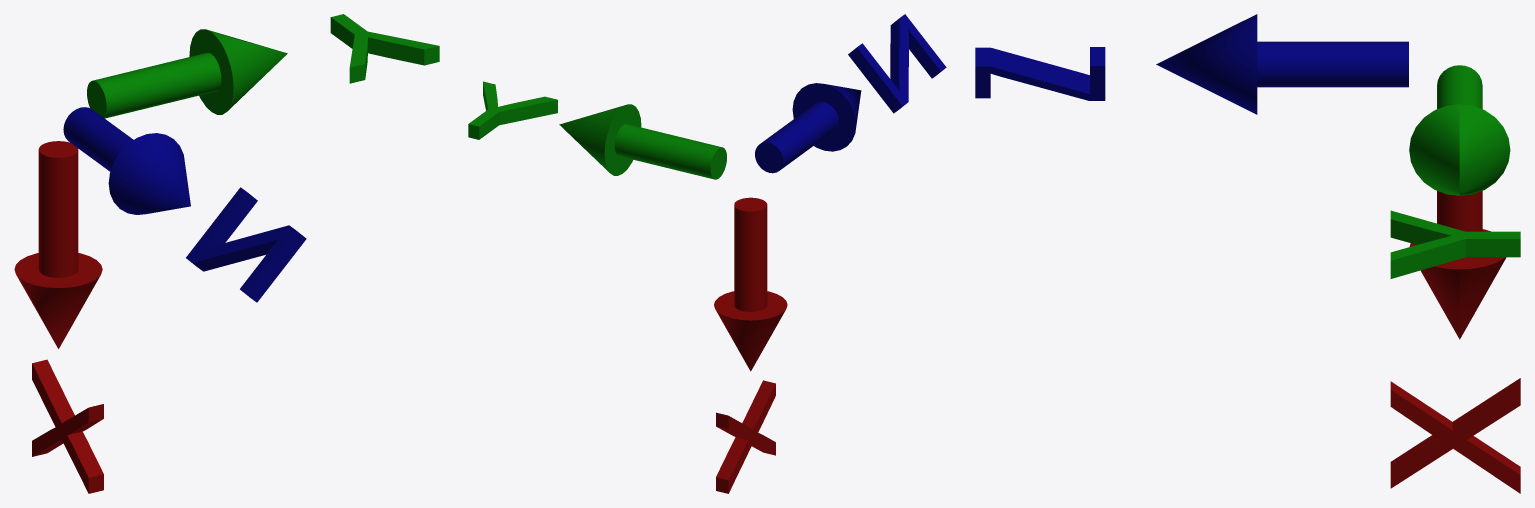
Rendered from 3d_arrow.obj.
3 renders of one model, left to right at view 1: azimuth 30°, elevation 25°; view 2: azimuth 150°, elevation 25°; view 3: azimuth 270°, elevation 25°, orthographic. The views are drawn at different scales.
Parts seen in each view (by area): view 1: arrow_x_Mesh.001, arrow_y_Mesh.002, arrow_z_Mesh, text_z_Mesh.005, text_x_Mesh.004, text_y_Mesh.003; view 2: arrow_x_Mesh.001, arrow_y_Mesh.002, arrow_z_Mesh, text_z_Mesh.005, text_x_Mesh.004, text_y_Mesh.003; view 3: arrow_z_Mesh, arrow_y_Mesh.002, text_x_Mesh.004, arrow_x_Mesh.001, text_y_Mesh.003, text_z_Mesh.005.
Boxes of the visible parts, x1,y1,x2,y2 form: arrow_x_Mesh.001: [14, 141, 102, 348]; arrow_y_Mesh.002: [87, 29, 287, 118]; arrow_z_Mesh: [63, 107, 190, 214]; text_z_Mesh.005: [186, 187, 306, 302]; text_x_Mesh.004: [32, 359, 103, 493]; text_y_Mesh.003: [330, 14, 439, 83]; arrow_x_Mesh.001: [714, 197, 787, 371]; arrow_y_Mesh.002: [559, 104, 726, 179]; arrow_z_Mesh: [755, 83, 861, 173]; text_z_Mesh.005: [848, 14, 946, 113]; text_x_Mesh.004: [716, 380, 775, 493]; text_y_Mesh.003: [468, 81, 557, 139]; arrow_z_Mesh: [1156, 14, 1408, 114]; arrow_y_Mesh.002: [1409, 65, 1510, 195]; text_x_Mesh.004: [1390, 378, 1520, 493]; arrow_x_Mesh.001: [1409, 191, 1506, 339]; text_y_Mesh.003: [1390, 210, 1520, 278]; text_z_Mesh.005: [975, 47, 1105, 100].
Size of the model in its own units: 0.0509 by 0.0509 by 0.0538.
